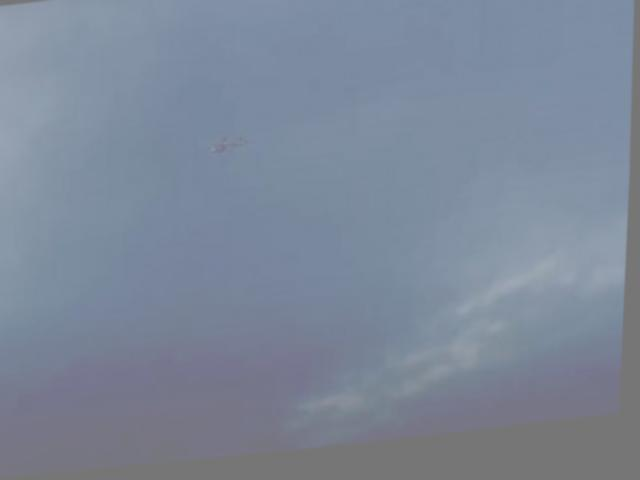iha: (198, 139, 251, 162)
